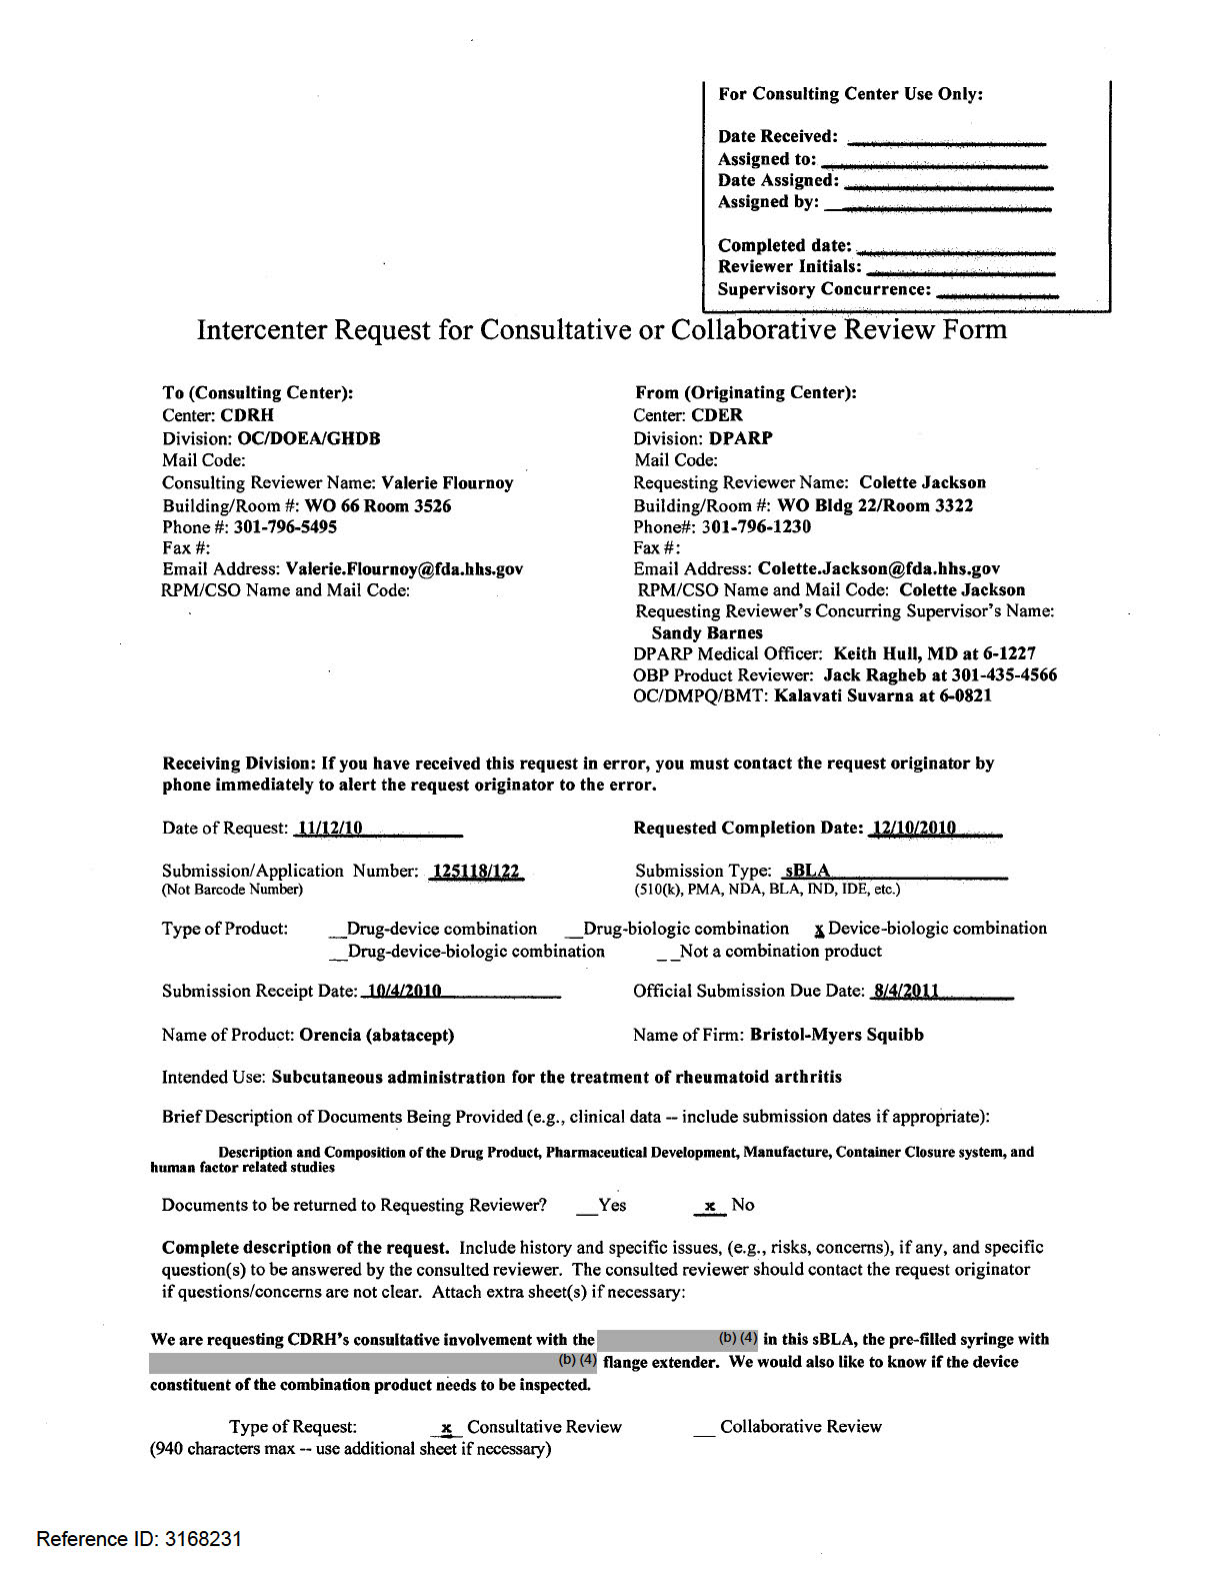nolines: (154, 381, 1061, 708)
